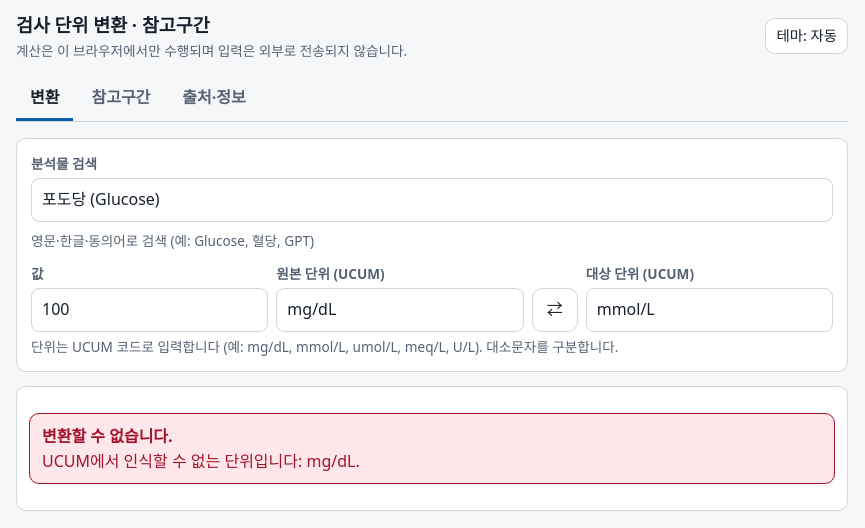
Test: 앱 스모크 › 한글 검색으로 분석물 선택
Replace the text in the dropdown with "당화" at (432, 200), box [31,178,833,222]
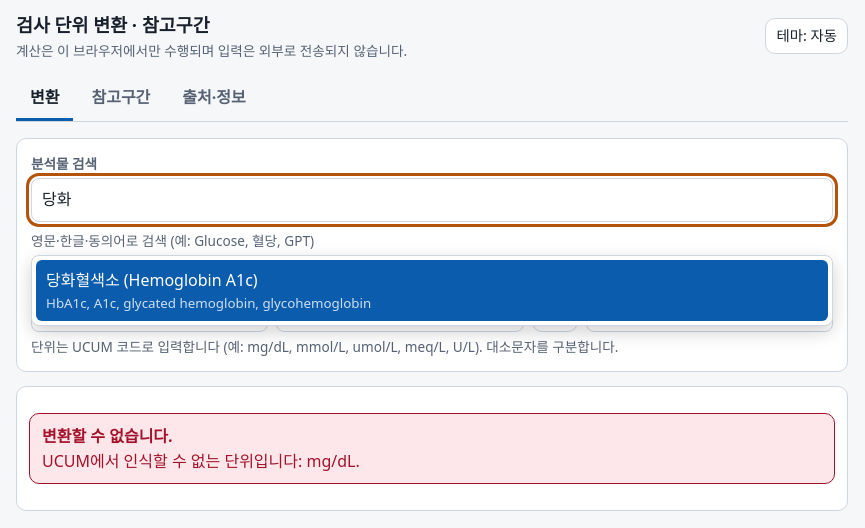
Press Enter
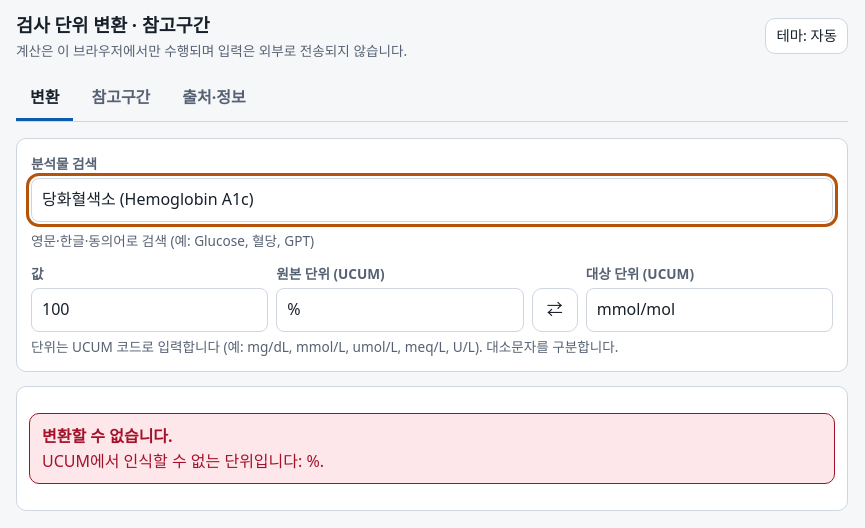
Check: the field labelled "원본 단위 (UCUM)" holds "%", box [276,288,524,332]
Check: the field labelled "대상 단위 (UCUM)" holds "mmol/mol", box [586,288,833,332]
